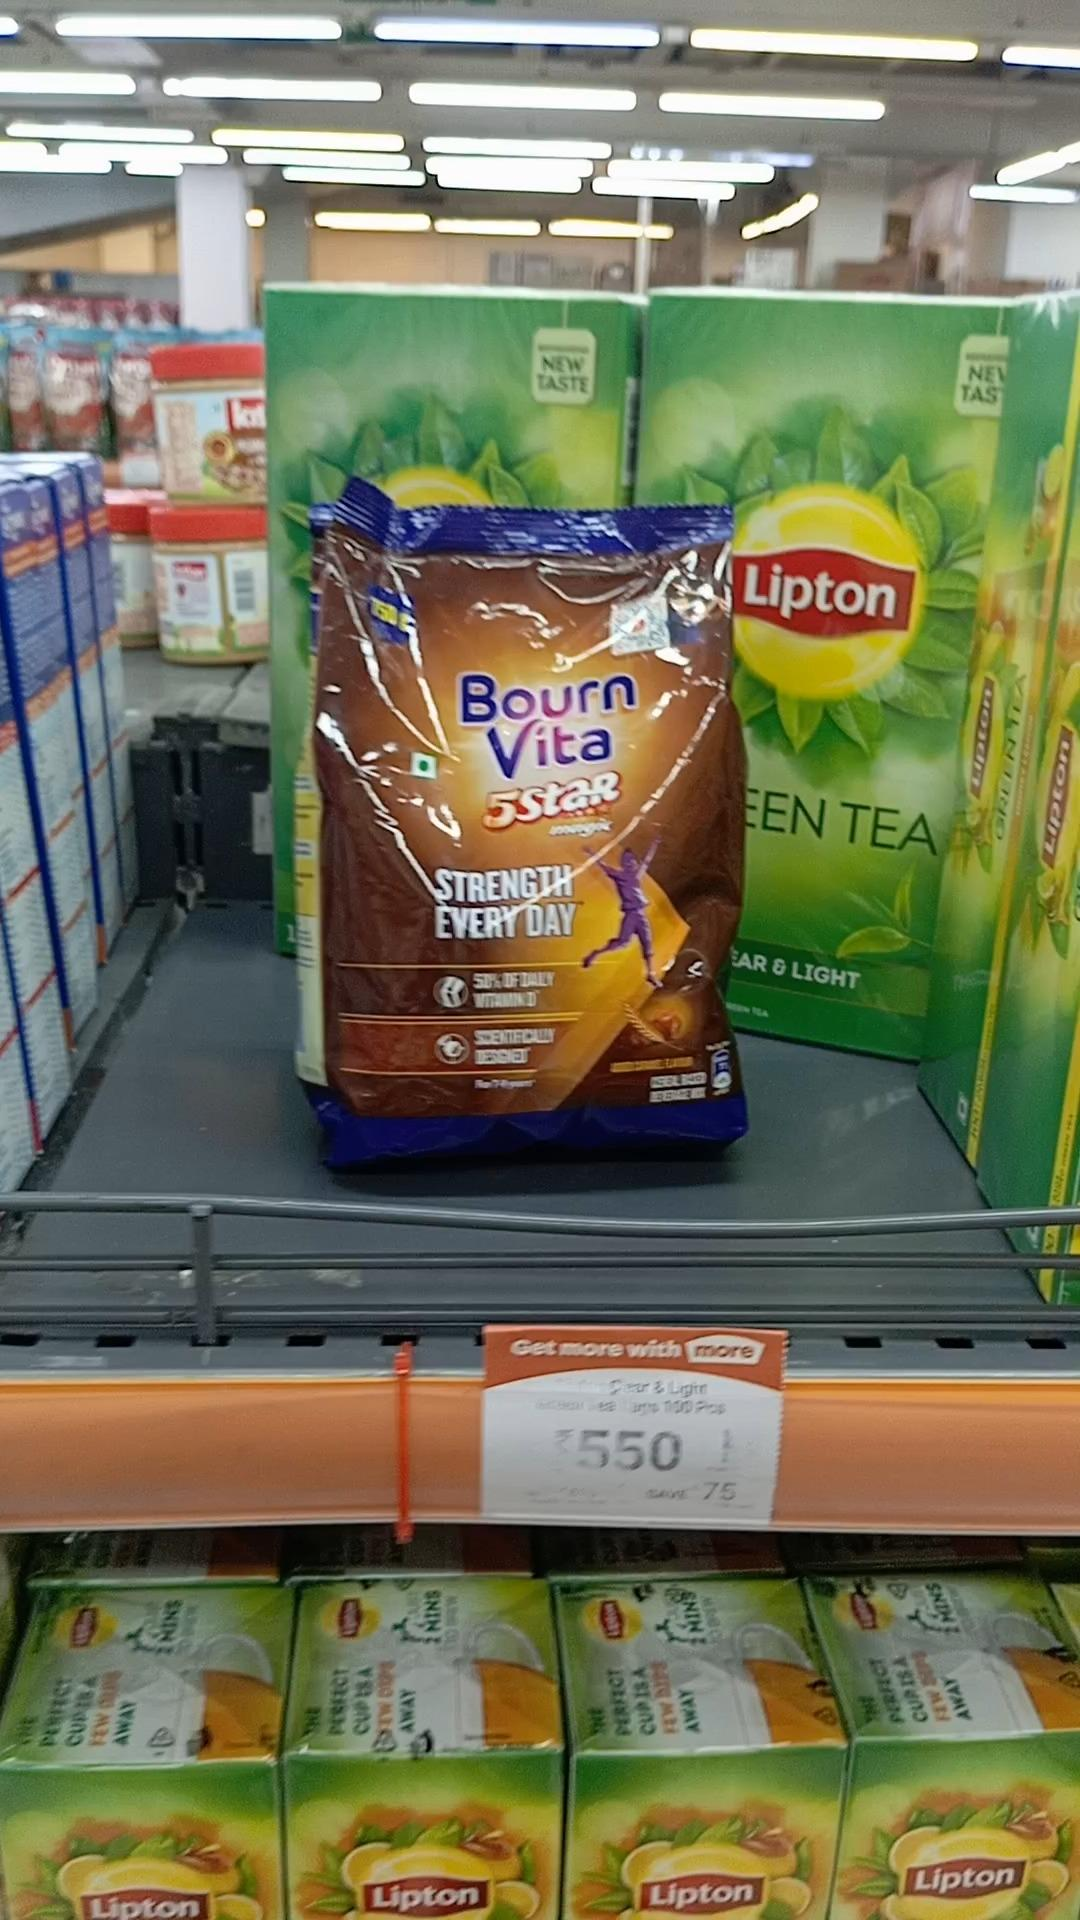BOURN_VITA_FIVE_STAR_MAGIC_750_G_POUCH: (305, 472, 753, 1149)
